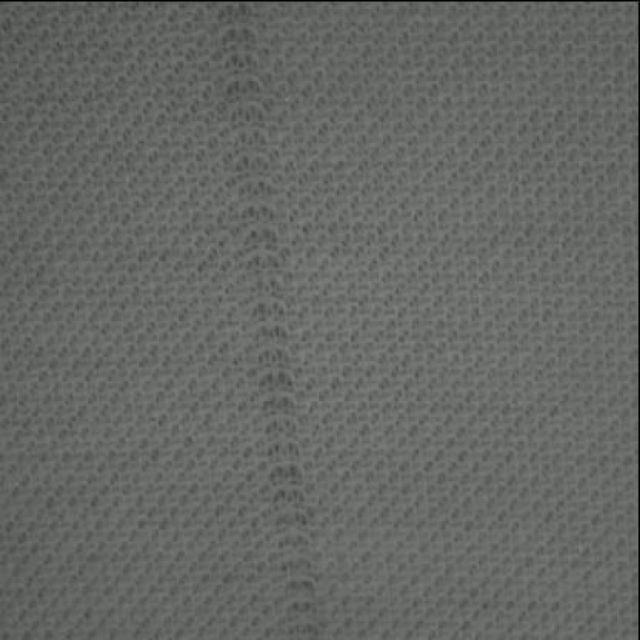Line: (223, 4, 325, 637)
